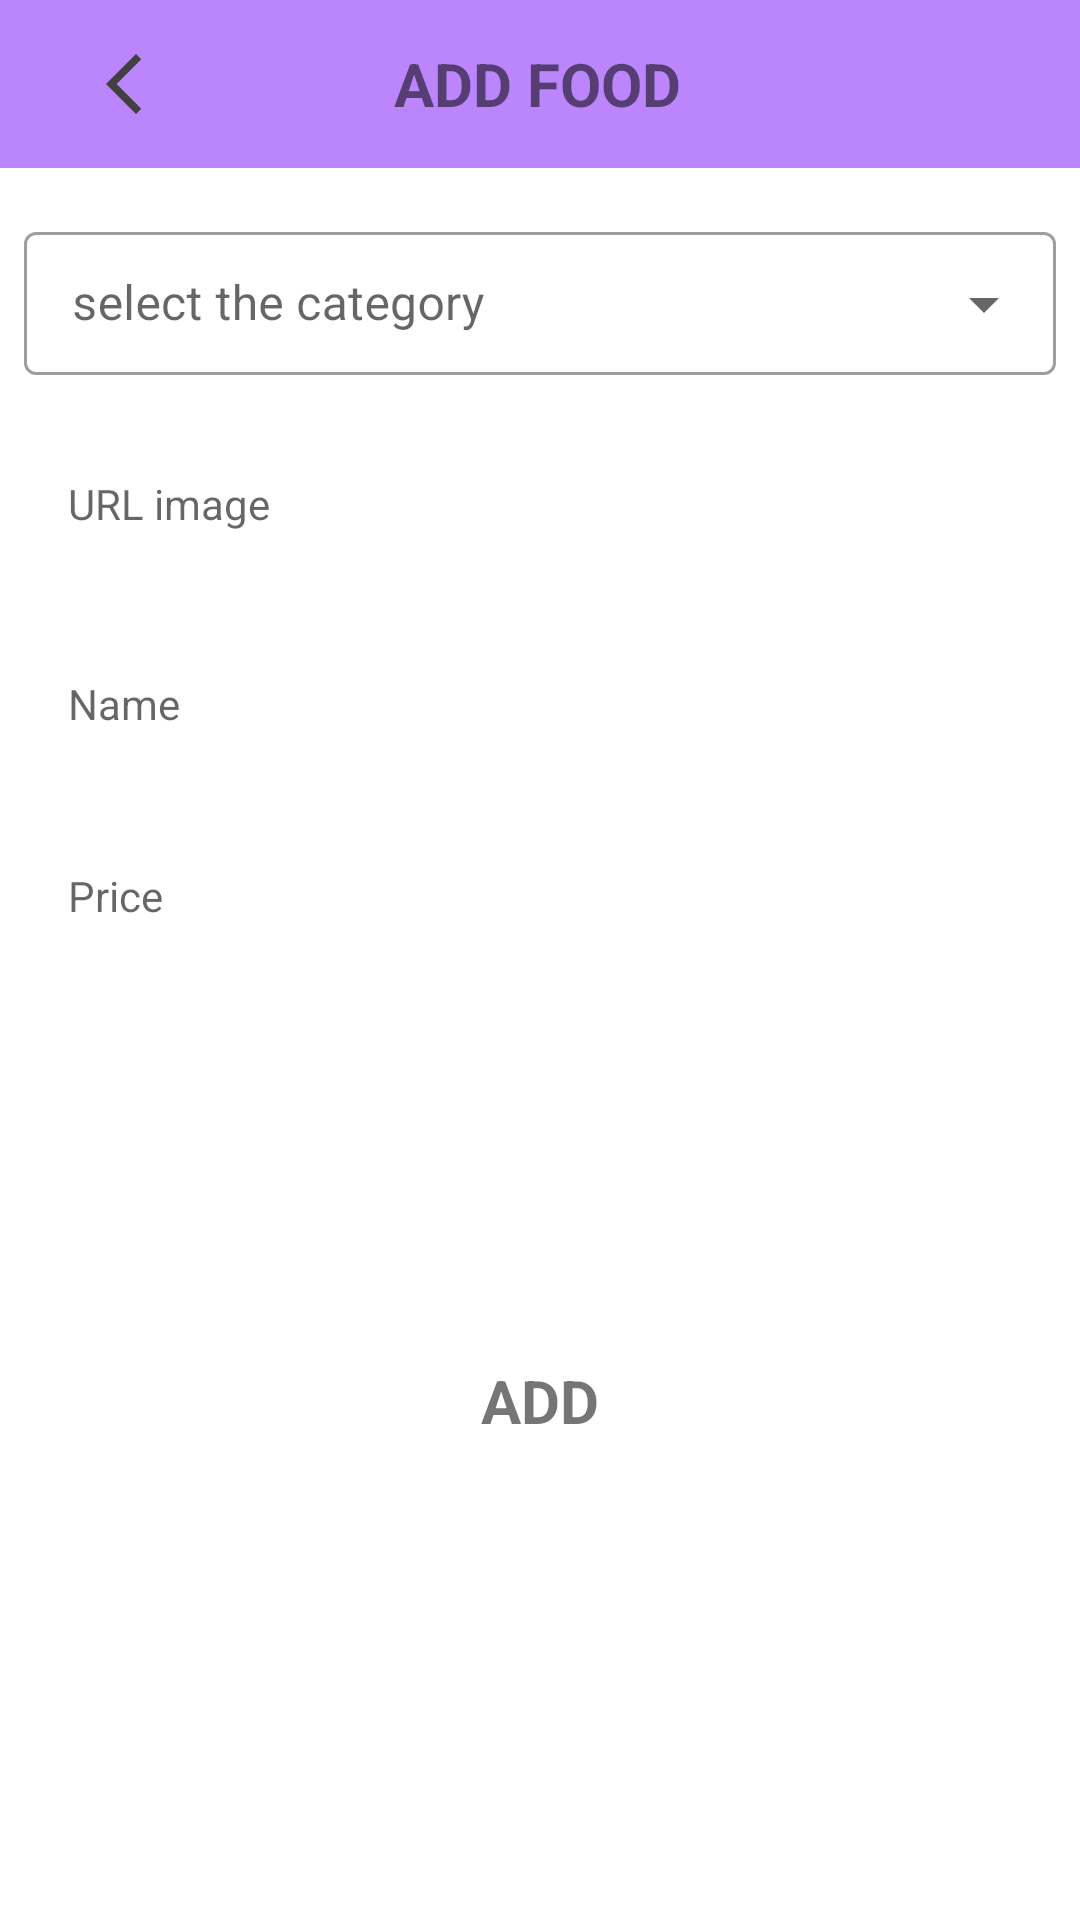

Where to tap for icons on this 1080×1920 app screen, as [x,y]:
before: [123,84]
